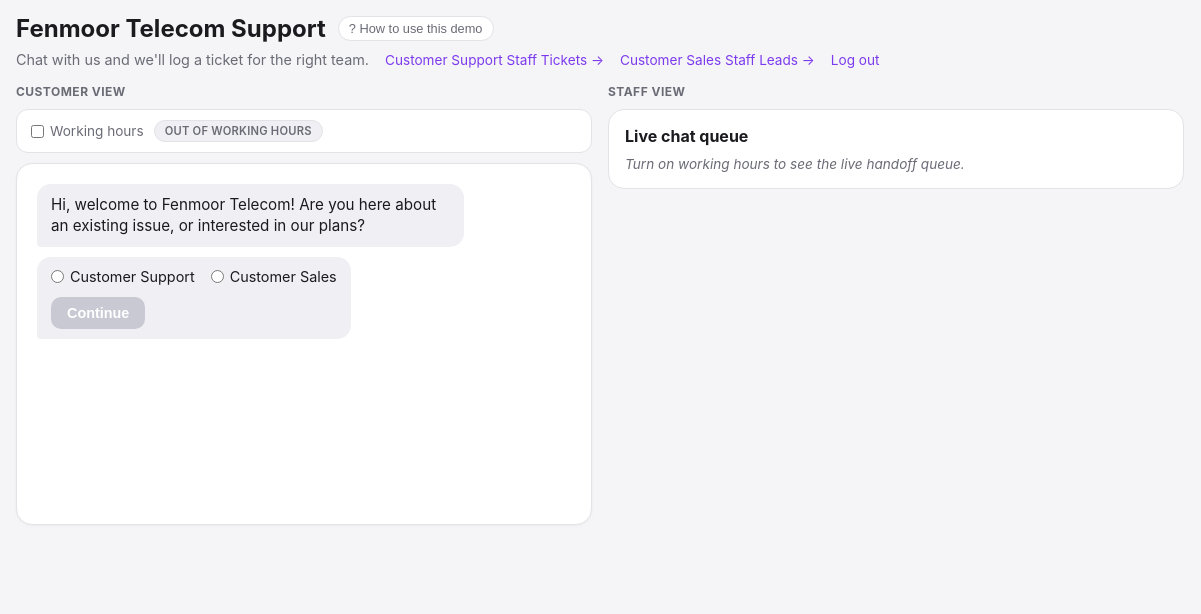
Test: App › sends a message and renders the assistant's reply
The width and height of the screenshot is (1201, 614).
Click the radio button labelled "Customer Support" at coordinates (58, 277), box [51,270,64,283]
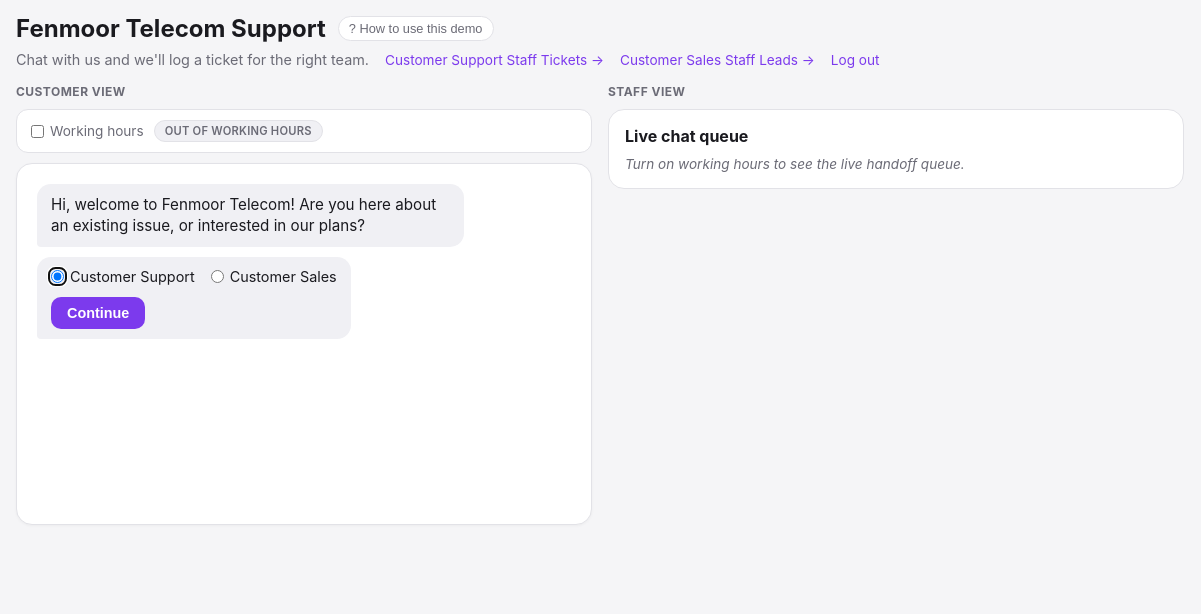
Click the button "Continue" at coordinates (98, 313), box [51,297,145,329]
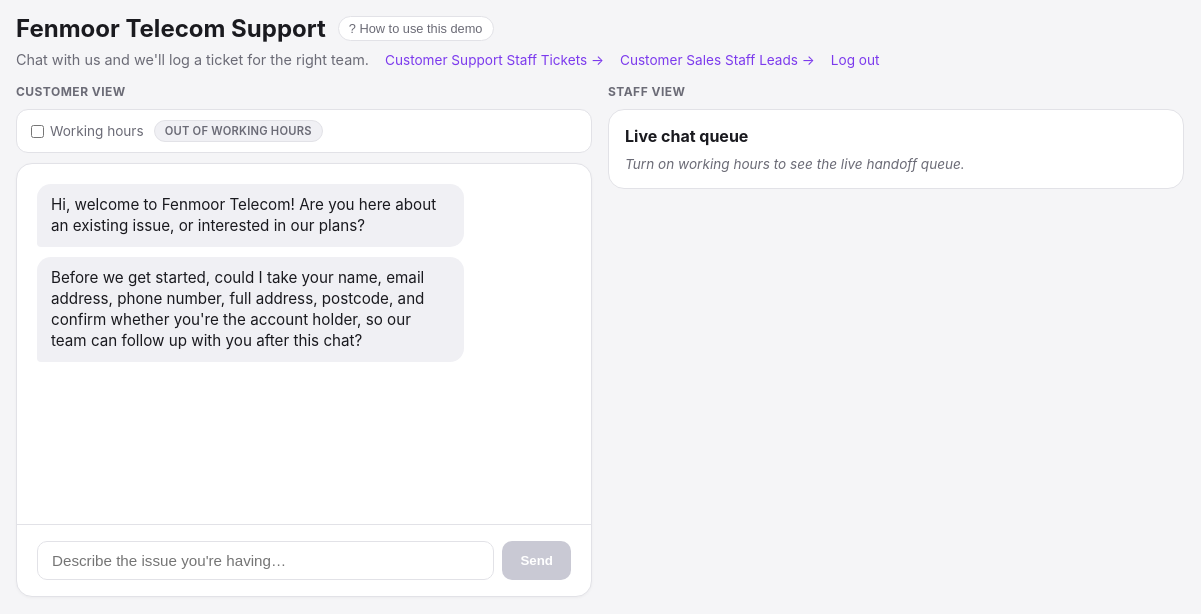
Check: the field with placeholder "Describe the issue you're having…" is shown
Type "my broadband is slow" into the field with placeholder "Describe the issue you're having…" at coordinates (266, 560), box [37,541,494,580]
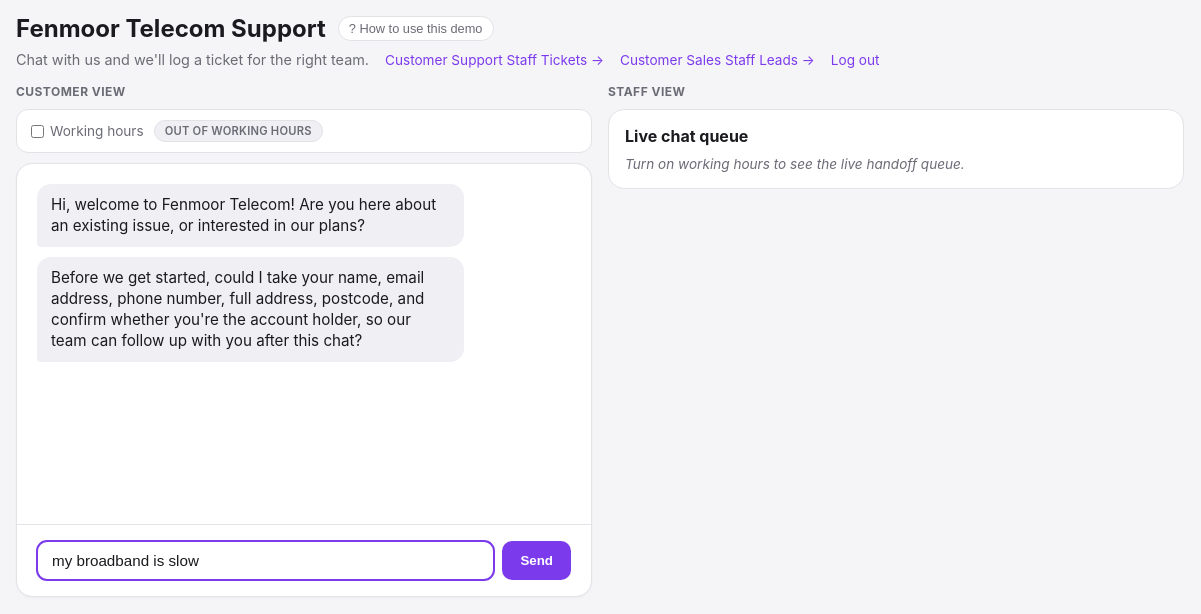
Click the button "Send" at coordinates (537, 560), box [502,541,571,580]
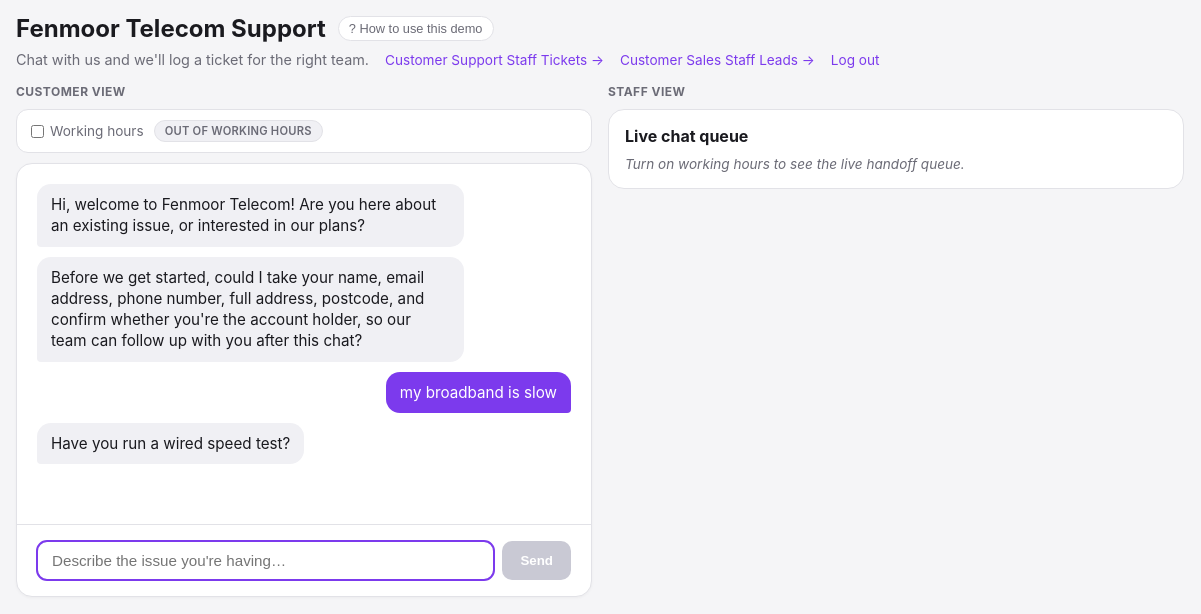
Check: the text "Have you run a wired speed test?" is shown, box [37,423,304,464]
